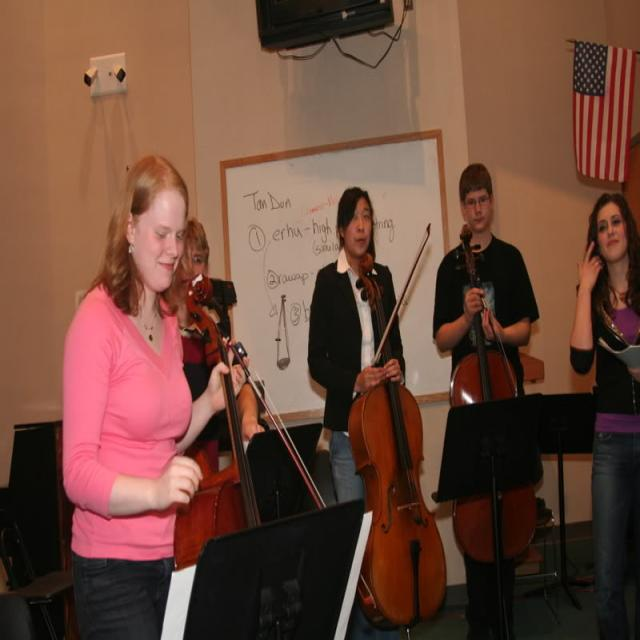cello: (344, 252, 448, 625), (452, 225, 538, 563), (174, 268, 266, 567)
